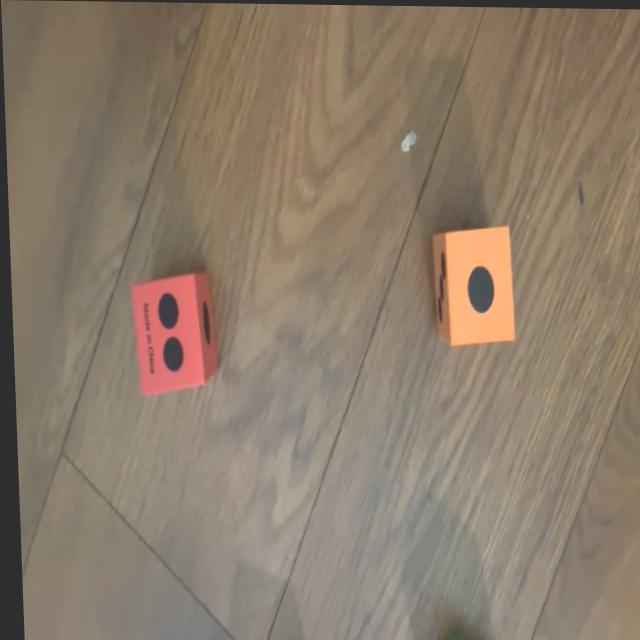cube: (126, 269, 216, 400)
